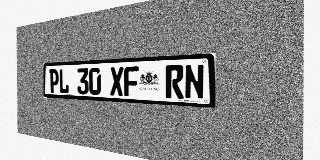0: (89, 68, 101, 95)
3: (77, 68, 88, 95)
F: (124, 66, 139, 97)
L: (59, 69, 69, 94)
N: (184, 64, 204, 100)
P: (49, 69, 59, 93)
R: (165, 65, 184, 99)
X: (110, 67, 123, 96)
